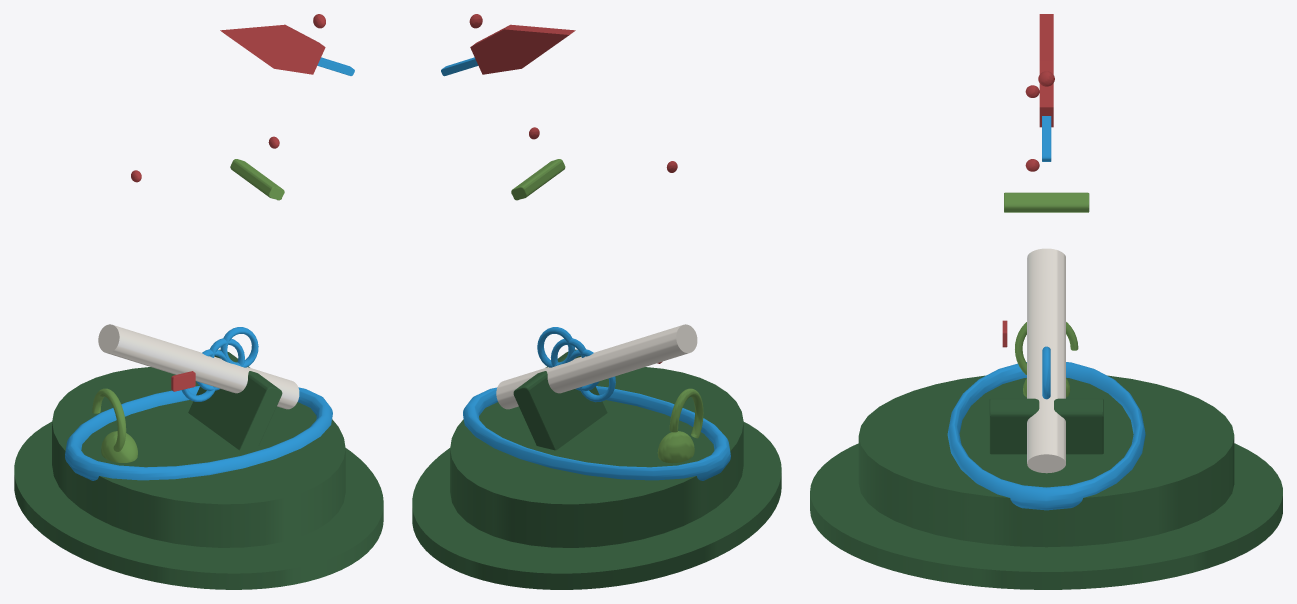
The model's file is 0208_生活中的物理图鉴_汞.glb.
The picture shows the model from 3 angles, left to right: view 1: azimuth 30°, elevation 25°; view 2: azimuth 150°, elevation 25°; view 3: azimuth 270°, elevation 25°; orthographic projection. The views are drawn at different scales.
Visible parts, largest first — view 1: card_0208; view 2: card_0208; view 3: card_0208.
Boxes of the visible parts, x1=… form: card_0208: x1=14, y1=14, x2=383, y2=589; card_0208: x1=412, y1=14, x2=781, y2=589; card_0208: x1=810, y1=14, x2=1282, y2=589.
Bounding box in the file's own units: 0.6733 × 1 × 0.828.
